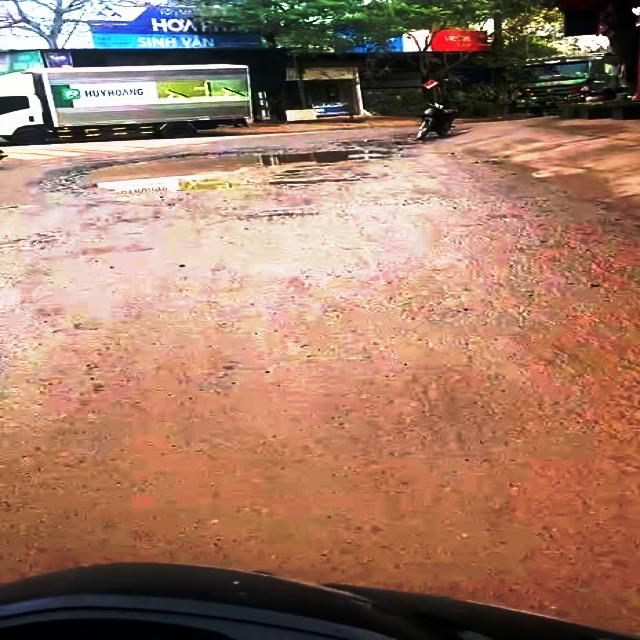pothole: (38, 142, 402, 199)
